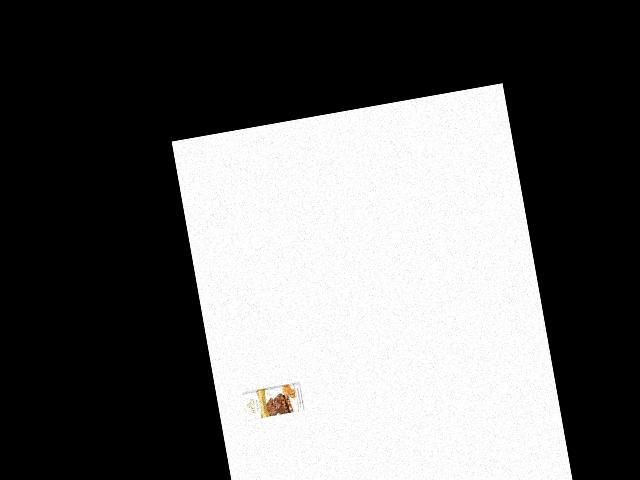chocolate: (239, 380, 306, 421)
